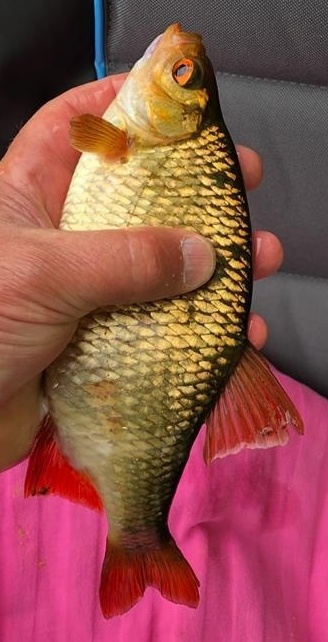Scardinius erythrophthalmus: (20, 20, 308, 622)
